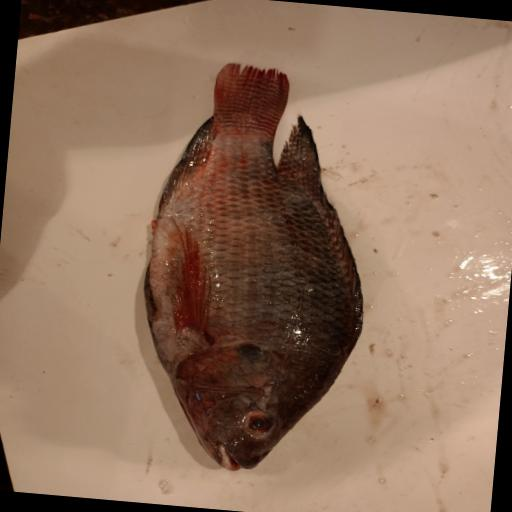Tilapia: (129, 57, 386, 483)
